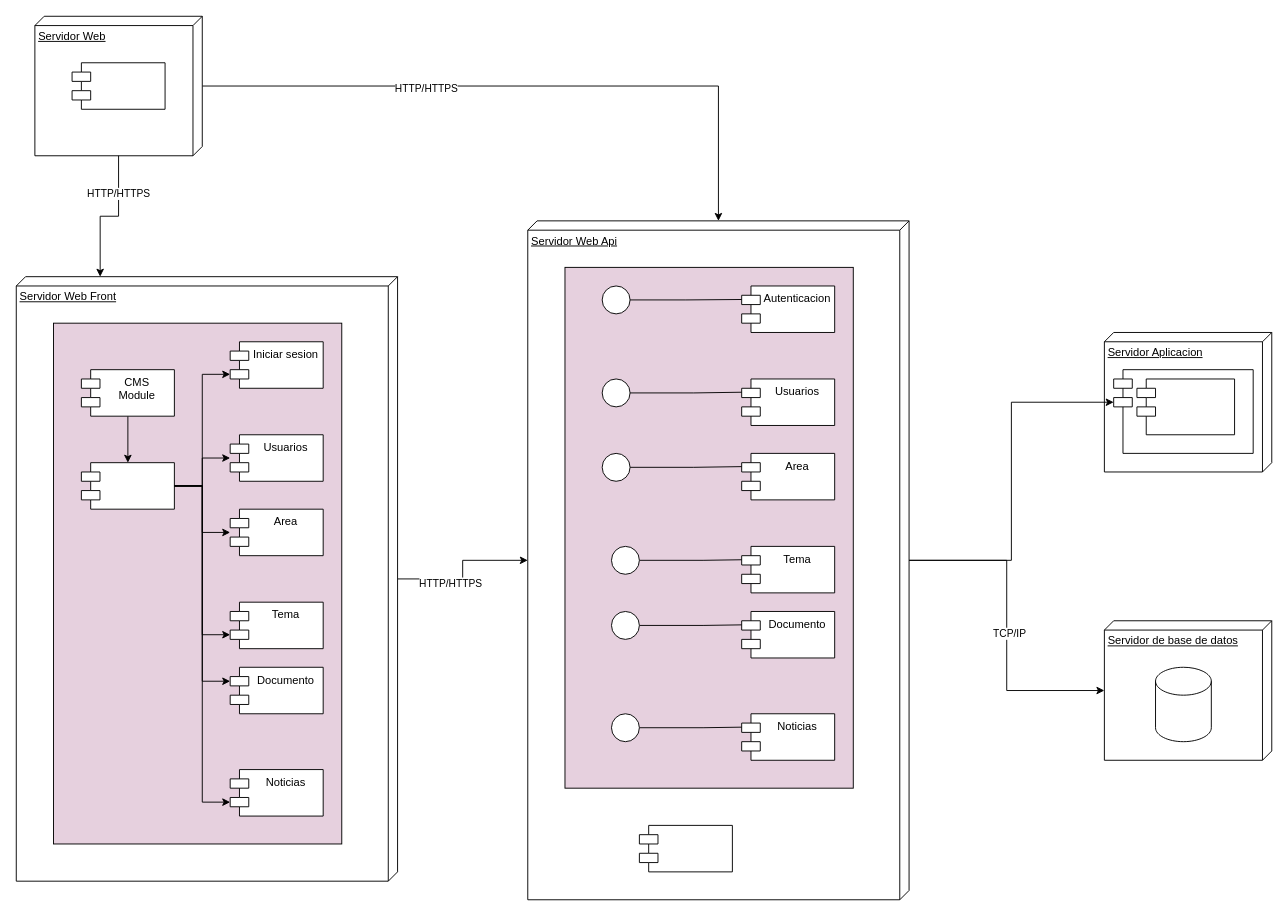
The diagram is 1288 pixels wide and 916 high, and some of its shapes have lost their labels. Each missing label, with the centre of its shape:
"Core Module" belongs at point 127,485.
"db mysql" belongs at point 1183,704.
"Login" belongs at point 118,85.
"Logout" belongs at point 685,848.
"Servidor de aplicacion" belongs at point 1185,406.
